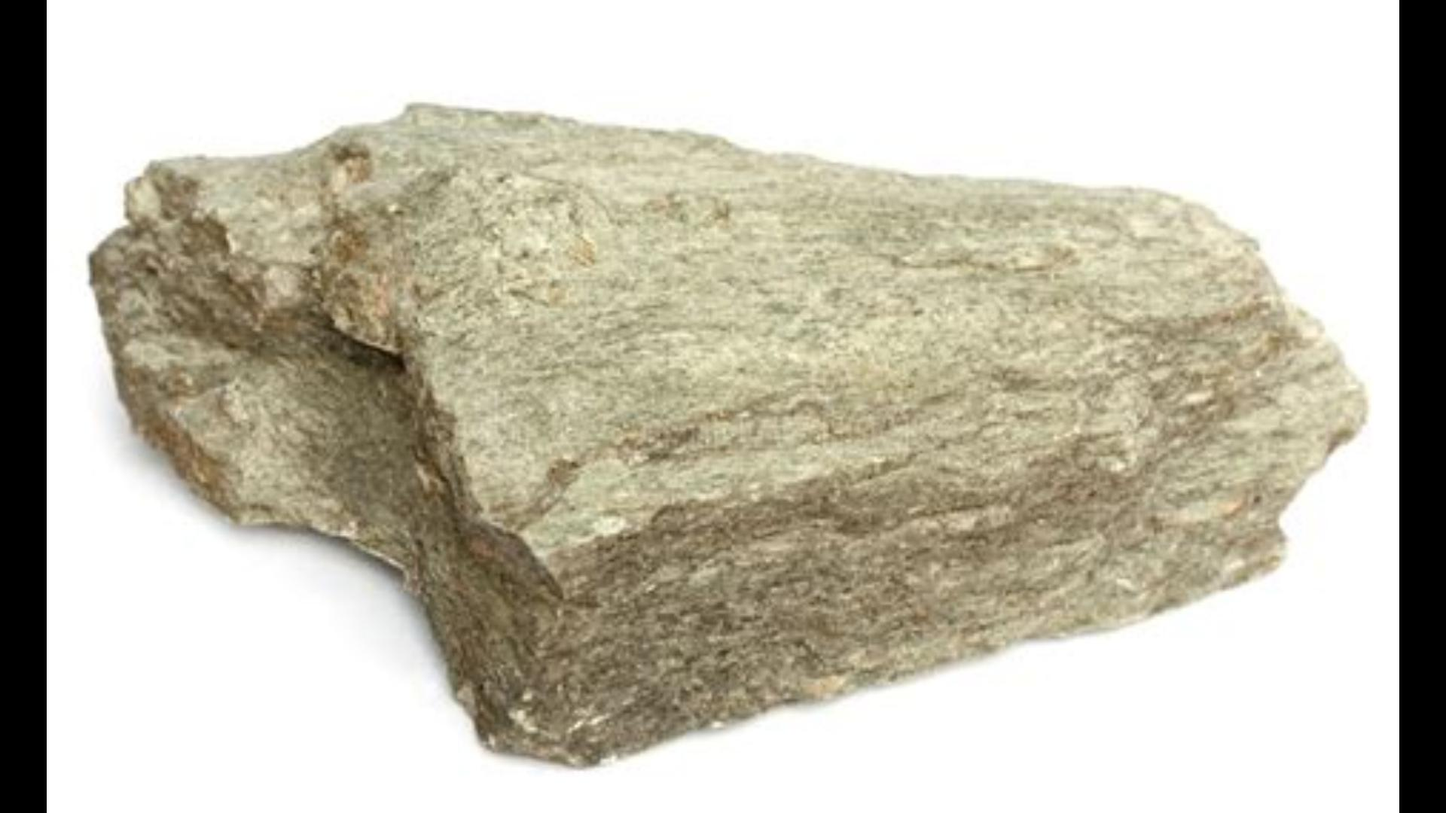rock: (92, 106, 1362, 762)
